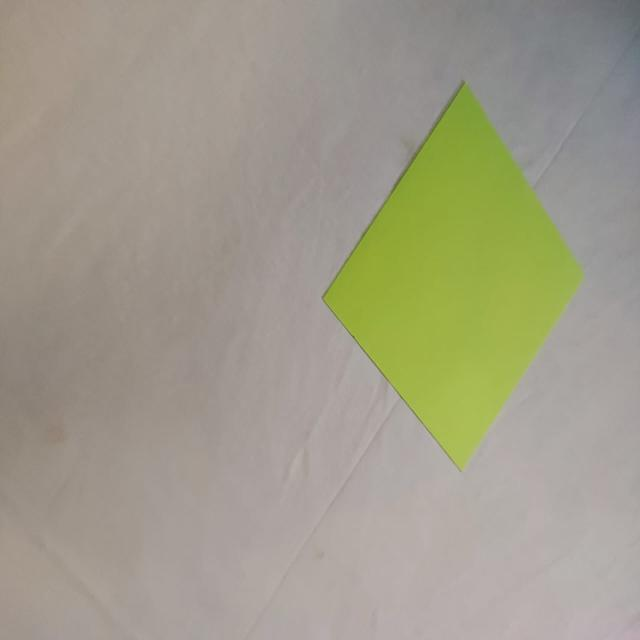Box: (321, 83, 584, 475)
